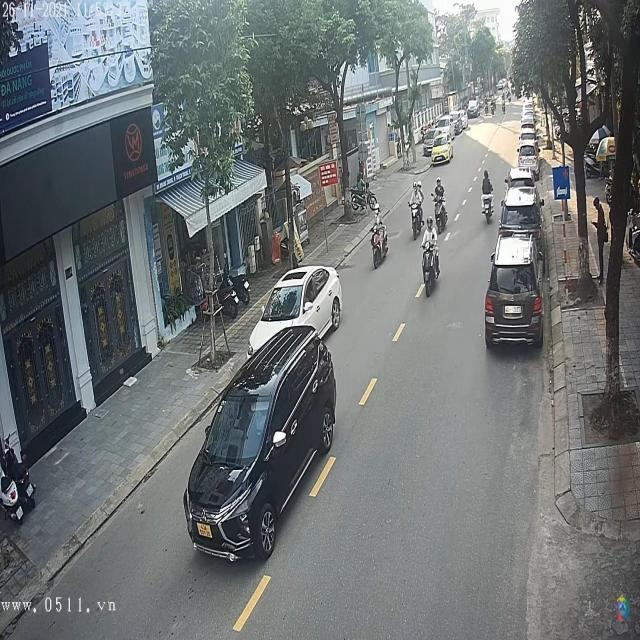car: (185, 324, 340, 565), (249, 266, 344, 352), (485, 252, 543, 350), (500, 187, 542, 238), (468, 99, 481, 117)
motorcycle: (422, 248, 442, 303), (369, 222, 390, 272), (408, 197, 425, 242), (434, 193, 449, 232), (480, 188, 495, 222)
